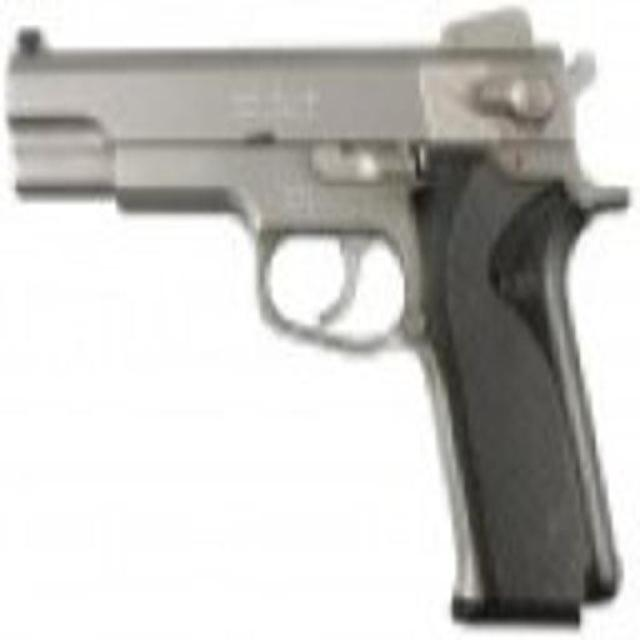pistol: (20, 15, 624, 634)
